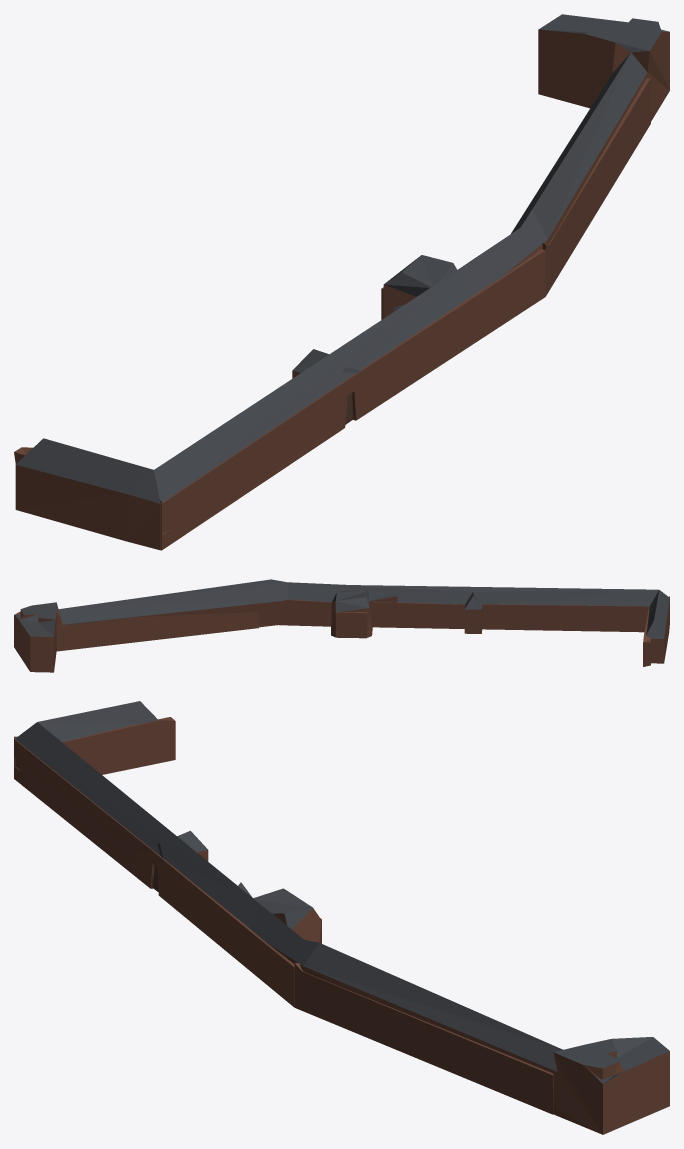
The model's file is marinekazerne-kattenburgerstraat.lod2.glb.
3 views of the same model, one above another, from view 1: azimuth 30°, elevation 25°; view 2: azimuth 150°, elevation 25°; view 3: azimuth 270°, elevation 25° (orthographic). The views are drawn at different scales.
Visible parts, largest first — view 1: lod2; view 2: lod2; view 3: lod2.
Part boxes in pixels (box(x1,y1,x2,y2)): lod2: box(14, 14, 669, 550); lod2: box(14, 579, 669, 672); lod2: box(14, 701, 669, 1134).
Bounding box in the file's own units: 157 × 12.47 × 113.
